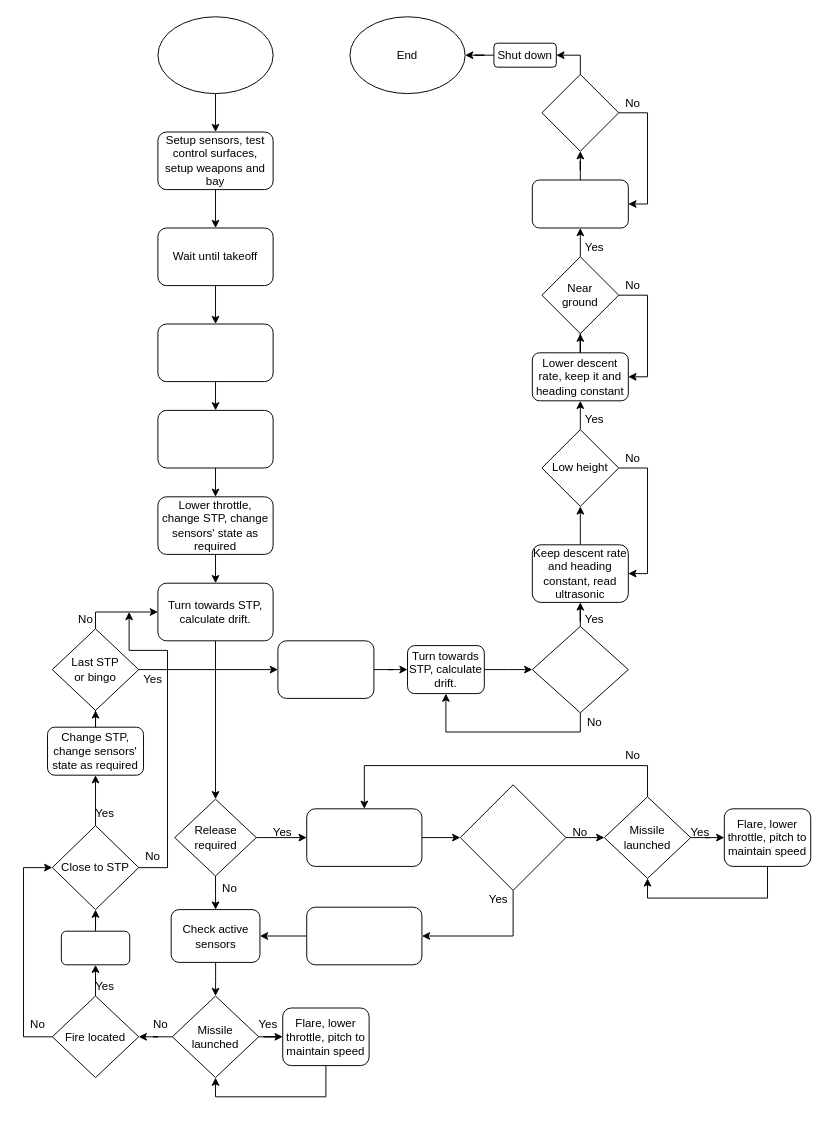
This 828x1121 diagram has some shape labels left out. Here are the shapes that lost their labels. From the top down, the centre of each, then its label:
At (215,55): "Start".
At (580,112): "0 speed".
At (579,203): "Turn off motors, keep pitch constant".
At (215,352): "Wake up, activate batteries".
At (215,438): "Increase throttle, balance plane, until speed and altitude achieved".
At (325,669): "Change STP to landing, change sensors' state as required".
At (579,669): "Close to final approach".
At (364,837): "Calculate release point and correct heading, check sensors".
At (512,837): "Release point reached".
At (95,947): "Report as per settings".
At (364,935): "Open bay, release needed payload, close bay".
